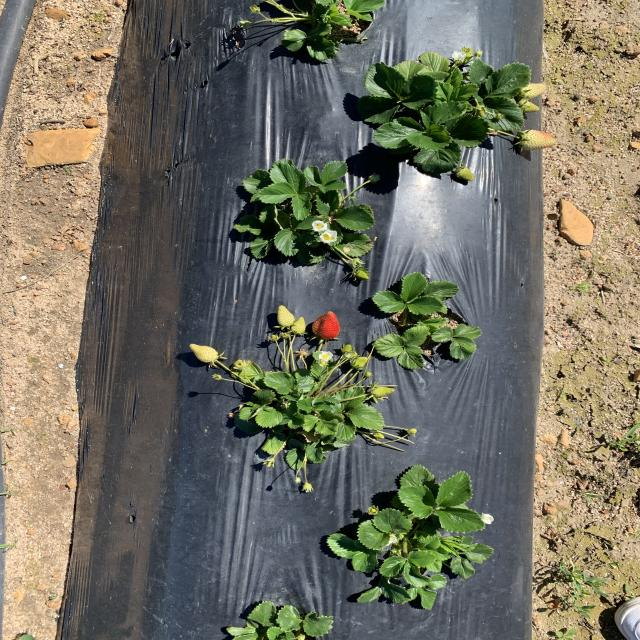unripe: (308, 310, 342, 340)
